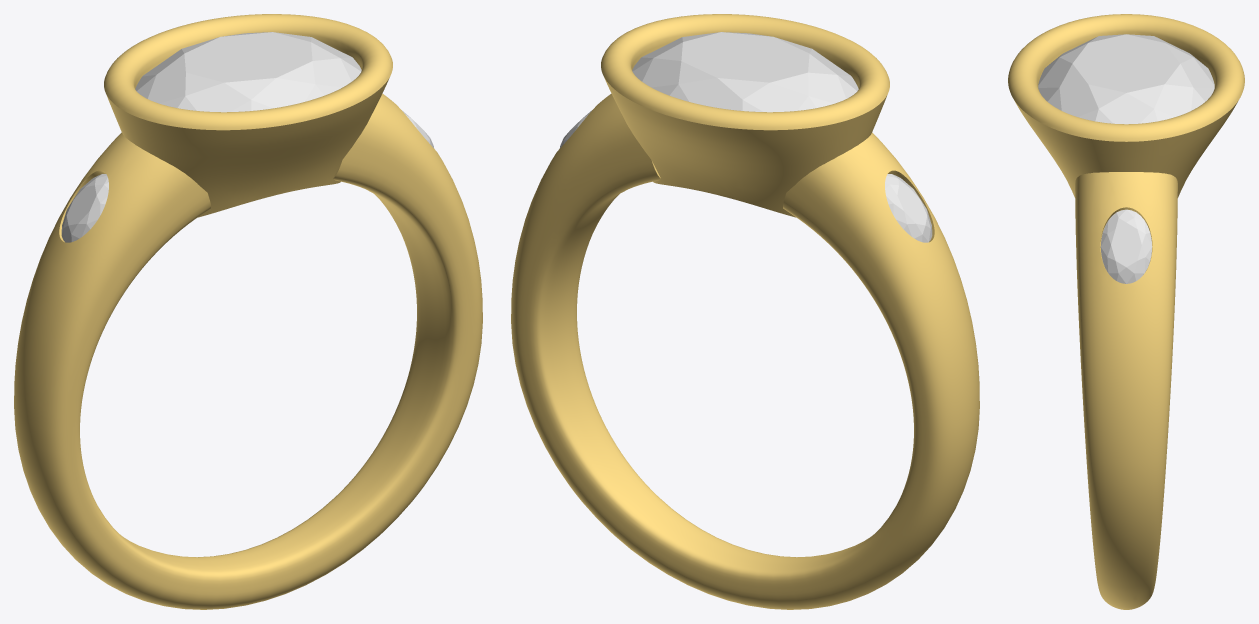
File: SamV6ew_blender.glb
3 views of the same model, side by side, from view 1: azimuth 30°, elevation 25°; view 2: azimuth 150°, elevation 25°; view 3: azimuth 270°, elevation 25° (orthographic). The views are drawn at different scales.
Parts seen in each view (by area): view 1: V6 Sam YG for 3d model, V6 Sam dia for 3d model.002, V6 Sam dia for 3d model.001; view 2: V6 Sam YG for 3d model, V6 Sam dia for 3d model.002, V6 Sam dia for 3d model.001; view 3: V6 Sam YG for 3d model, V6 Sam dia for 3d model.002, V6 Sam dia for 3d model.
Part boxes in pixels (x1,y1,x2,y2): V6 Sam YG for 3d model: [14, 14, 482, 609]; V6 Sam dia for 3d model.002: [135, 32, 361, 112]; V6 Sam dia for 3d model.001: [61, 174, 108, 242]; V6 Sam YG for 3d model: [511, 14, 979, 609]; V6 Sam dia for 3d model.002: [632, 32, 858, 112]; V6 Sam dia for 3d model.001: [885, 174, 932, 242]; V6 Sam YG for 3d model: [1008, 14, 1244, 609]; V6 Sam dia for 3d model.002: [1038, 34, 1214, 124]; V6 Sam dia for 3d model: [1100, 209, 1152, 283].
Size of the model in its own units: 19.5 by 22.44 by 9.22.
